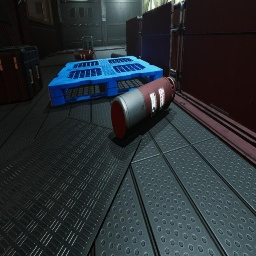NitrogenTank ,: (111, 76, 176, 141), (74, 50, 94, 60)
